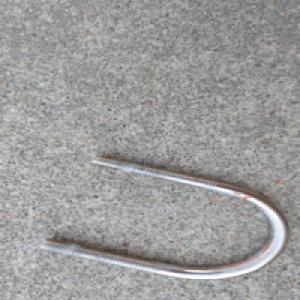ClampPart: (38, 154, 291, 282)
